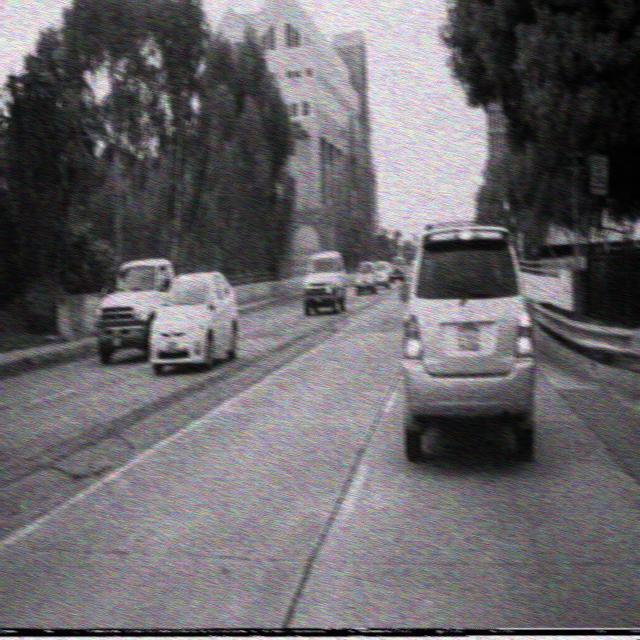speedLimit35: (588, 151, 610, 197)
